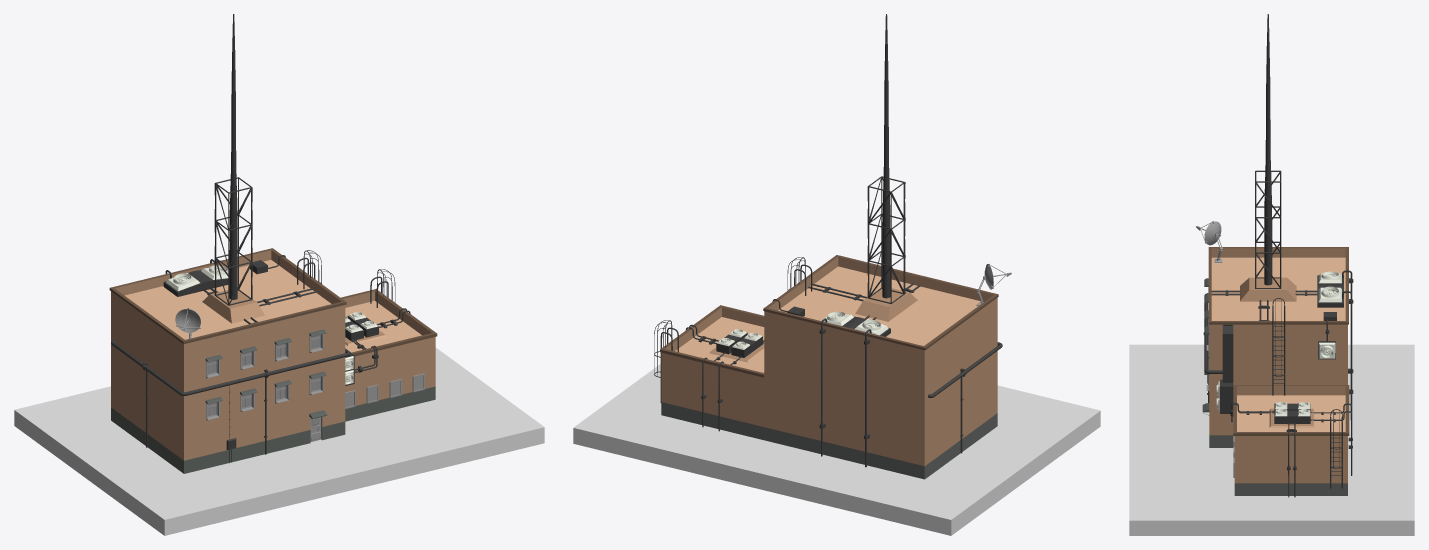
Rendered from Buildings.fbx.
3 renders of one model, left to right at view 1: azimuth 30°, elevation 25°; view 2: azimuth 150°, elevation 25°; view 3: azimuth 270°, elevation 25°, orthographic. The views are drawn at different scales.
Visible parts, largest first — view 1: Plane, Plane.020, Plane.022; view 2: Plane, Plane.020, Plane.022; view 3: Plane.020, Plane, Plane.022, Circle.003, Circle.011, Plane.014.
Part boxes in pixels (box(x1,y1,x2,y2)): Plane: box(109, 248, 437, 473); Plane.020: box(14, 347, 544, 535); Plane.022: box(111, 14, 410, 462); Plane: box(660, 255, 998, 479); Plane.020: box(573, 364, 1100, 535); Plane.022: box(685, 14, 1002, 467); Plane.020: box(1129, 344, 1414, 535); Plane: box(1202, 247, 1349, 495); Plane.022: box(1203, 14, 1353, 497); Circle.003: box(1196, 221, 1222, 262); Circle.011: box(1318, 286, 1341, 302); Plane.014: box(1272, 323, 1285, 365).
Size of the model in its own units: 3300 by 3596 by 2262.
